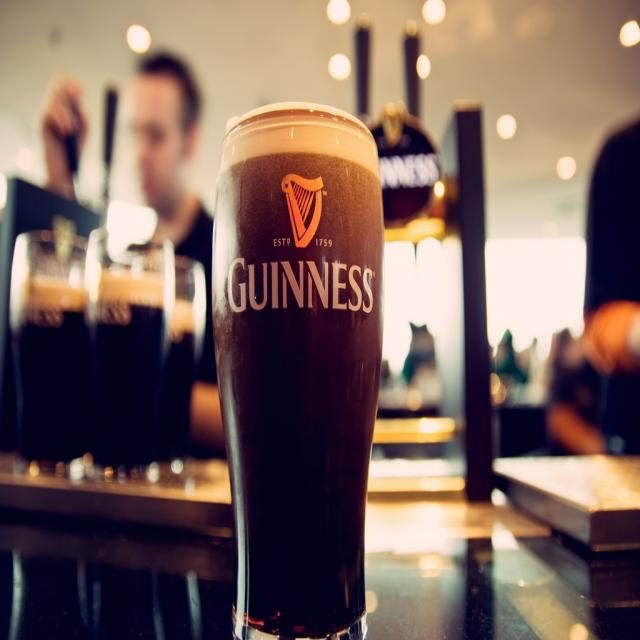guiness: (226, 170, 374, 318)
